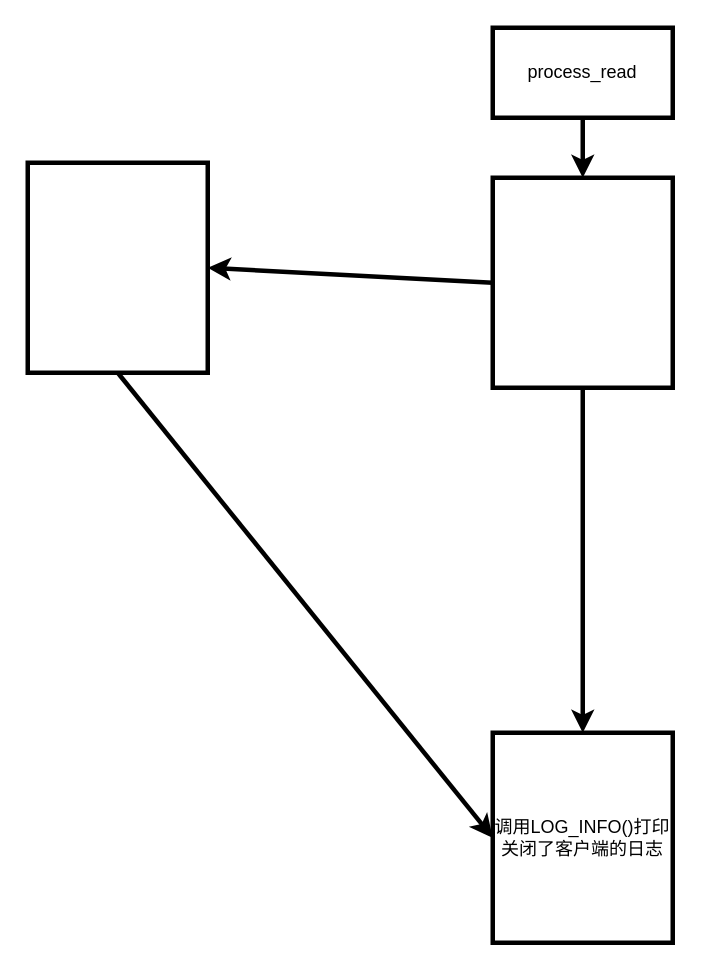
This 701x971 diagram has some shape labels left out. The box of each missing label's shape, as (x1, y1, x2, y2) in pixels:
判断条件:主状态机的状态为解析消息体(post)同时完整读取一行 或者: (25, 160, 209, 374)
调用cb_func()删除该fd在内核事件表上注册的事件 并关闭该socket,同时更新客户连接数: (490, 175, 674, 389)
